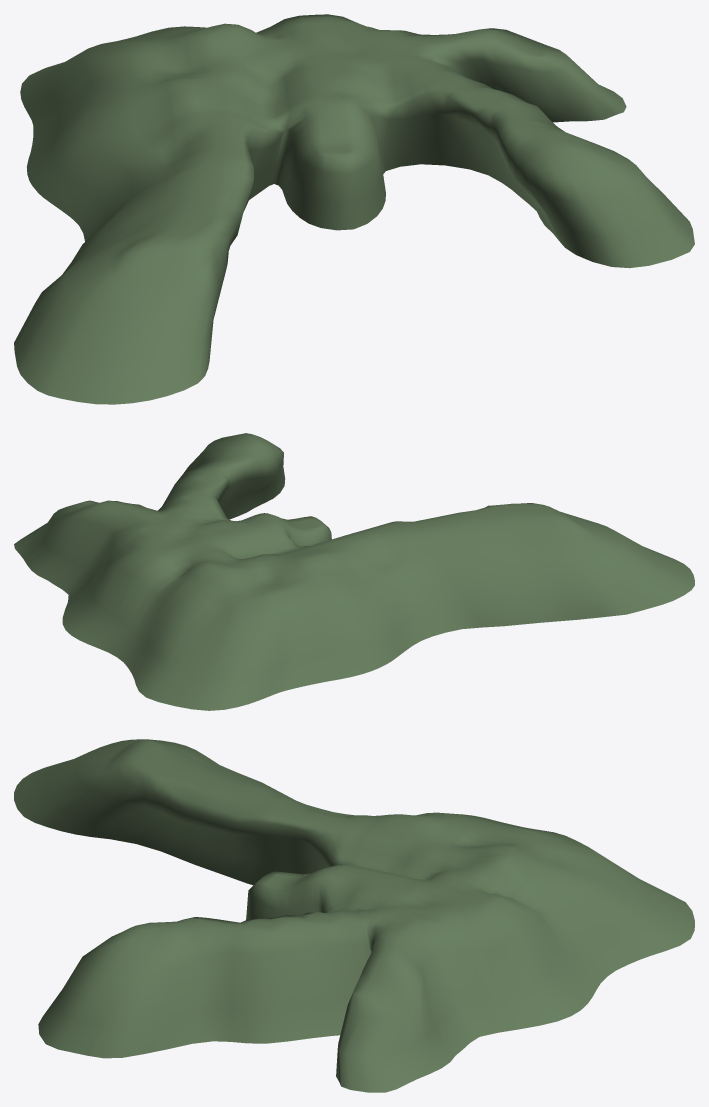
The model's file is Slime22.fbx.
The picture shows the model from 3 angles, top to bottom: view 1: azimuth 30°, elevation 25°; view 2: azimuth 150°, elevation 25°; view 3: azimuth 270°, elevation 25°; orthographic projection. The views are drawn at different scales.
Visible parts, largest first — view 1: Slime22; view 2: Slime22; view 3: Slime22.
Part boxes in pixels (bbox=[...]): Slime22: bbox=[14, 14, 694, 404]; Slime22: bbox=[14, 433, 694, 710]; Slime22: bbox=[14, 739, 694, 1092].
Bounding box in the file's own units: 6.47 × 0.8175 × 5.59.
